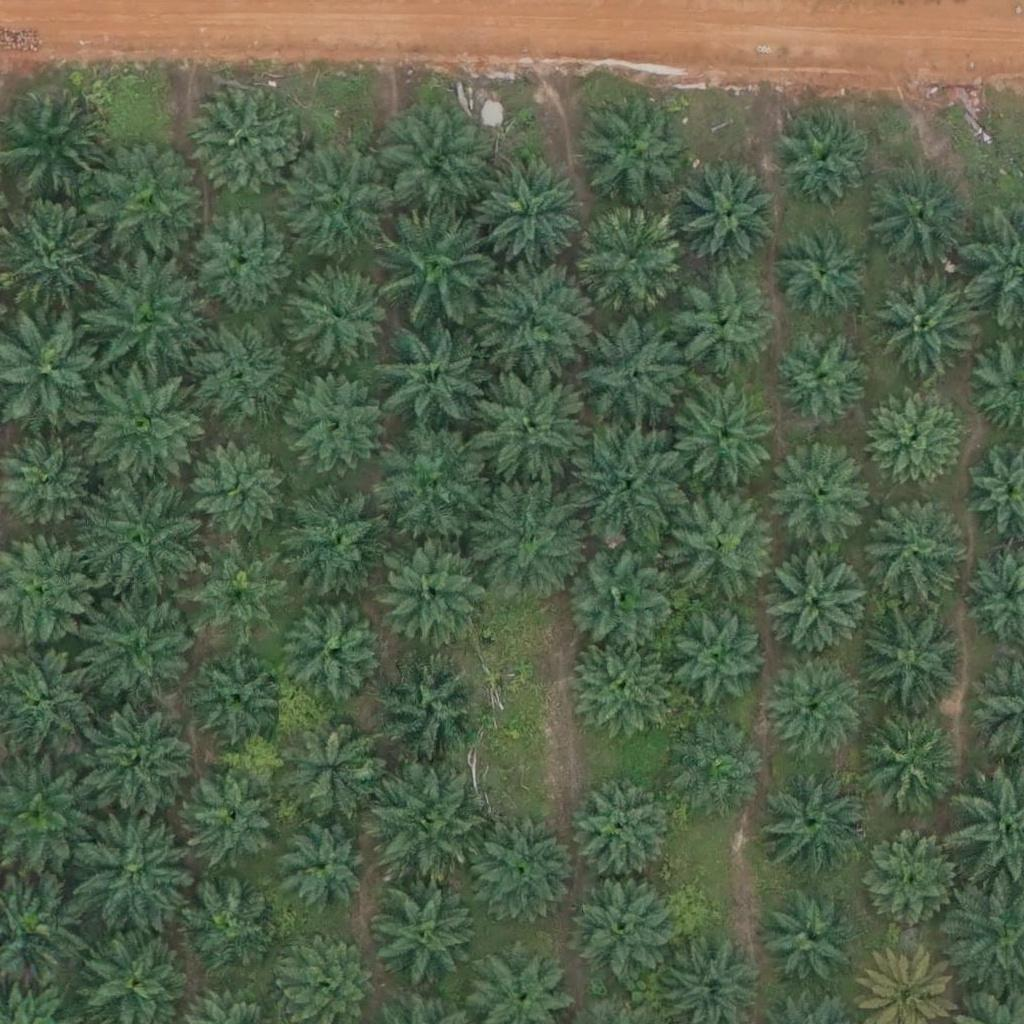Kelapa_Sawit: (465, 814, 578, 928), (578, 92, 691, 206), (476, 156, 589, 270), (476, 365, 589, 479), (375, 425, 488, 539), (92, 366, 205, 480), (661, 483, 774, 596), (570, 420, 683, 533), (574, 206, 687, 319), (472, 270, 585, 383), (469, 484, 582, 597), (382, 207, 495, 320), (280, 481, 393, 594), (372, 777, 485, 890), (189, 88, 302, 201), (87, 149, 200, 262), (72, 825, 185, 938), (866, 161, 978, 275), (663, 272, 775, 386), (577, 316, 689, 430), (286, 145, 398, 259), (87, 595, 199, 709), (382, 545, 494, 658), (376, 320, 488, 433), (380, 108, 492, 221), (370, 648, 482, 761), (180, 316, 292, 429), (90, 264, 202, 377), (86, 484, 198, 597), (83, 701, 195, 814), (864, 498, 964, 599), (866, 611, 966, 712), (858, 714, 958, 815), (766, 772, 866, 873), (760, 658, 860, 759), (767, 551, 867, 652), (773, 110, 873, 211), (676, 168, 776, 269), (674, 388, 774, 489), (666, 717, 766, 818), (576, 782, 676, 883), (573, 875, 673, 976), (571, 545, 671, 646), (288, 261, 388, 362), (288, 607, 388, 708), (284, 718, 384, 819), (191, 642, 291, 743), (185, 434, 285, 535), (190, 202, 290, 303), (875, 280, 975, 380), (863, 392, 963, 492), (774, 445, 874, 545), (771, 329, 871, 429), (774, 224, 874, 324), (667, 608, 767, 708), (575, 636, 675, 736), (287, 372, 387, 472), (376, 890, 476, 990), (184, 766, 284, 866), (190, 541, 290, 641), (766, 896, 854, 984), (182, 880, 270, 968), (870, 833, 957, 922), (278, 824, 365, 912)
